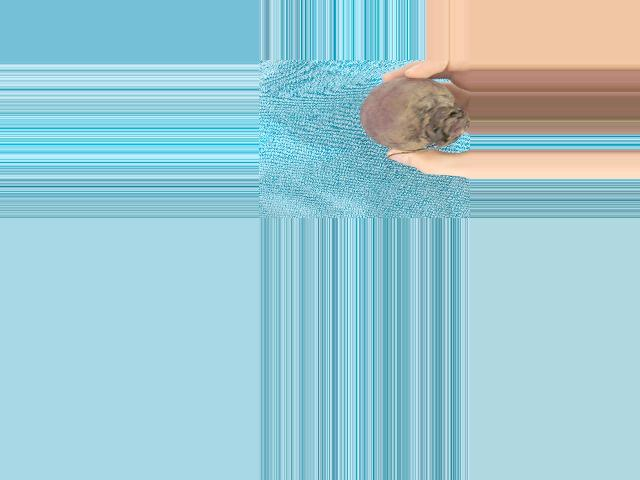beet: (360, 77, 468, 160)
